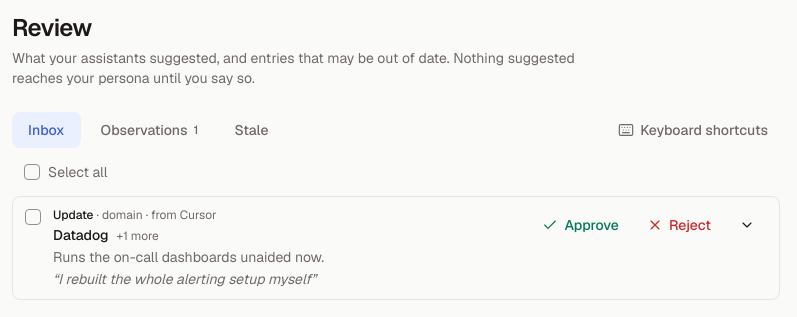
Test: ProposalsPanel › approves and drops the row, once the Undo window has passed
Click the button "approve ": click(581, 225) x1=530 y1=207 x2=631 y2=243
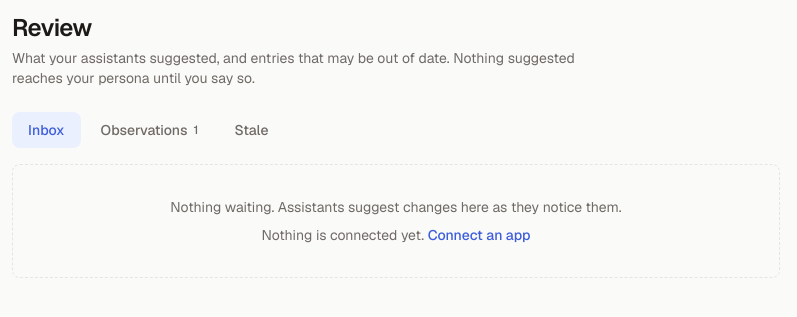
Result: the text "Runs the on-call dashboards" is gone
